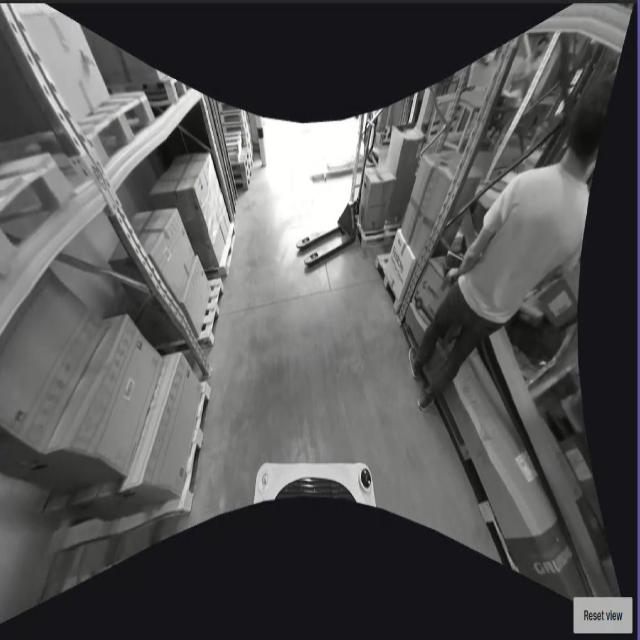Pallets-and-forklifts: (0, 154, 78, 278), (88, 90, 158, 170), (175, 377, 213, 517), (200, 283, 224, 351)
forlift: (291, 112, 386, 278)
